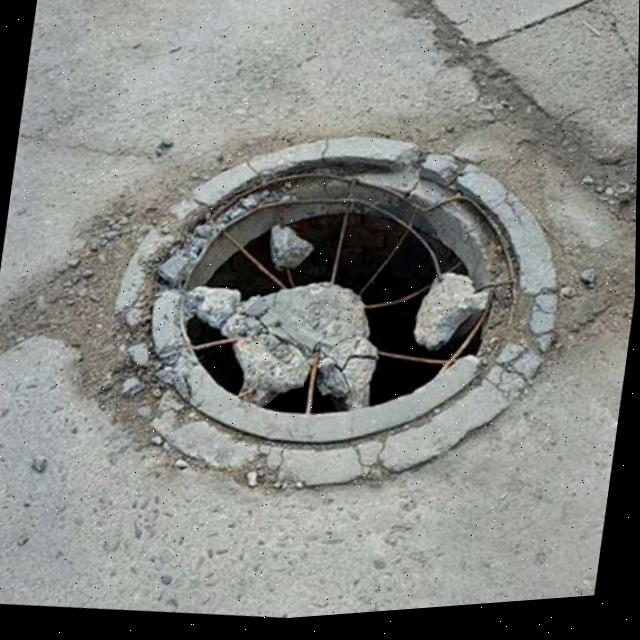manhole: (92, 97, 586, 535)
